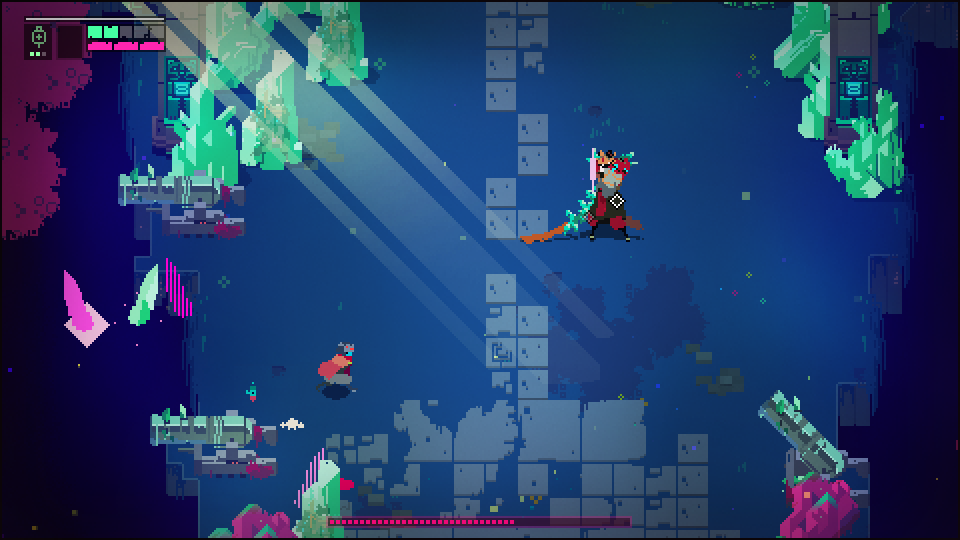hanged_man: (556, 144, 642, 245)
player: (321, 344, 352, 390)
